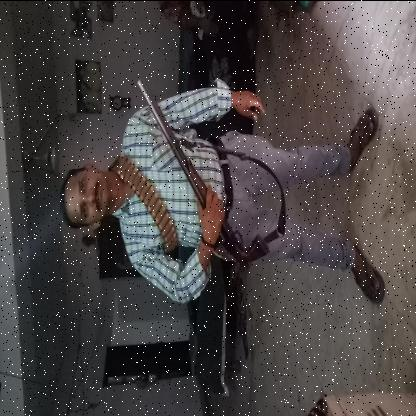rifle: (135, 74, 271, 274)
